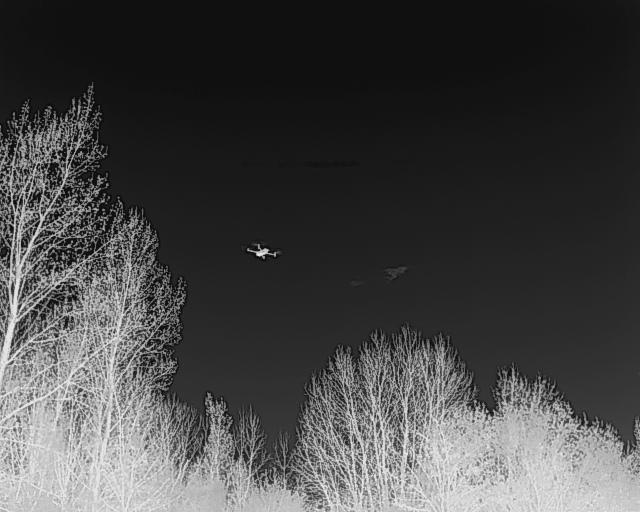drone: (238, 235, 287, 273)
